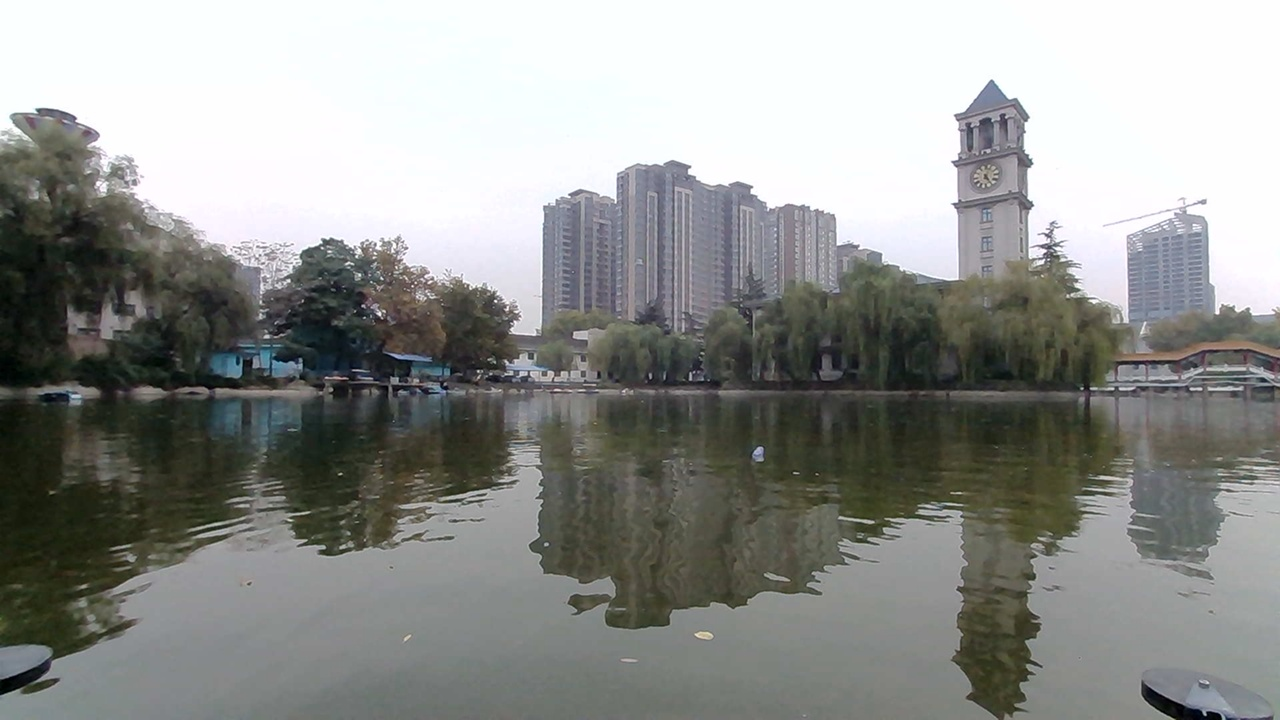bottle: (737, 435, 786, 467)
